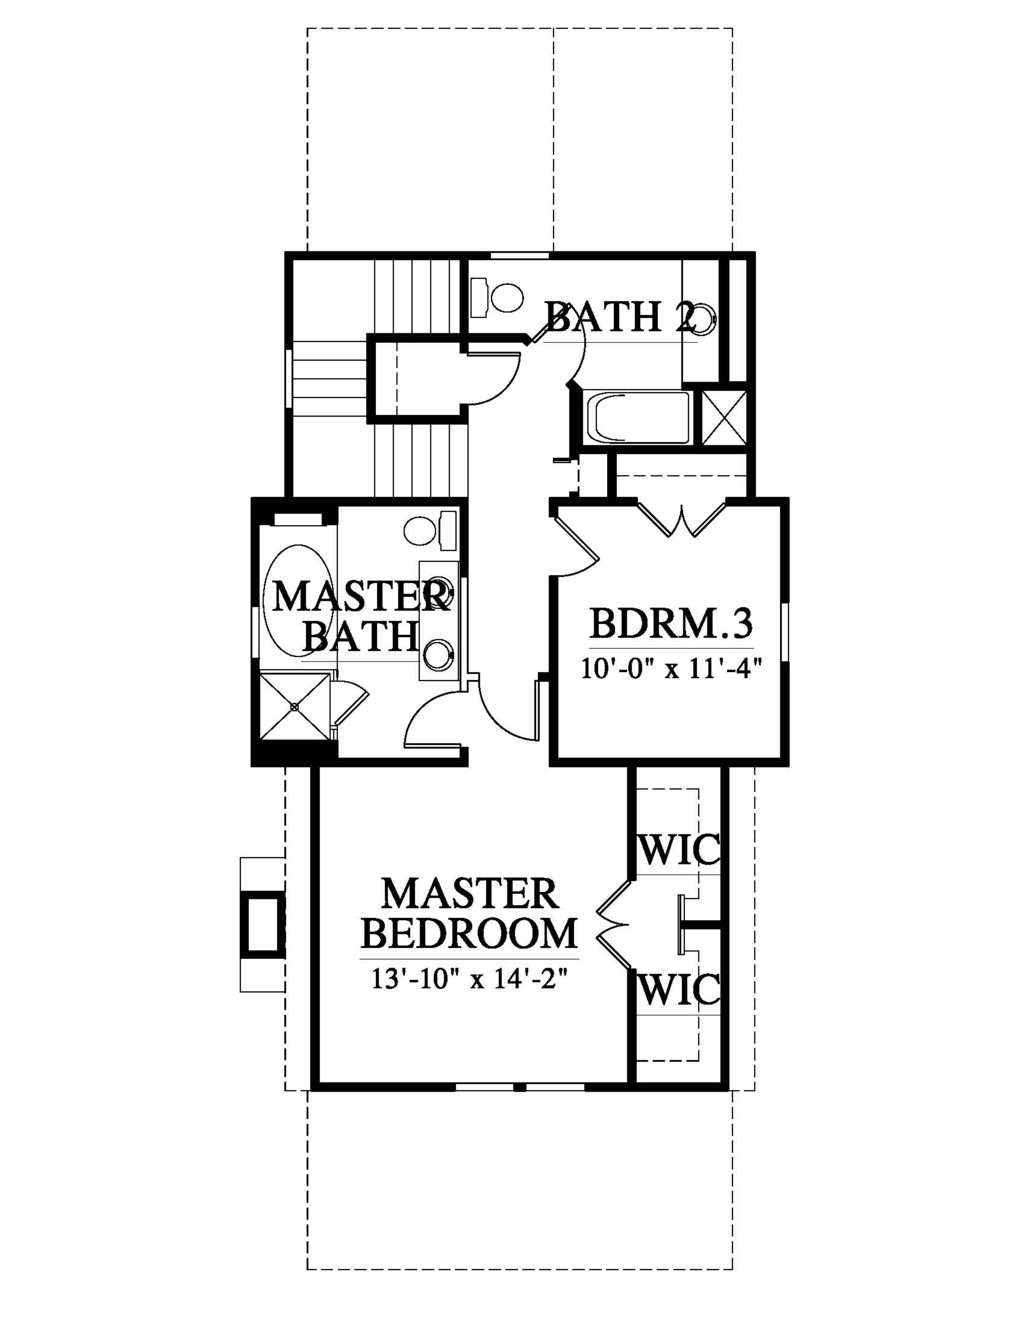door: (473, 662, 549, 742), (591, 866, 644, 970), (628, 490, 727, 540), (400, 688, 466, 756), (332, 676, 373, 735)
large_sink: (466, 266, 534, 325), (400, 505, 463, 550)
stairs: (287, 250, 475, 497)
tub: (575, 386, 693, 452)
windows: (441, 1074, 587, 1105)
